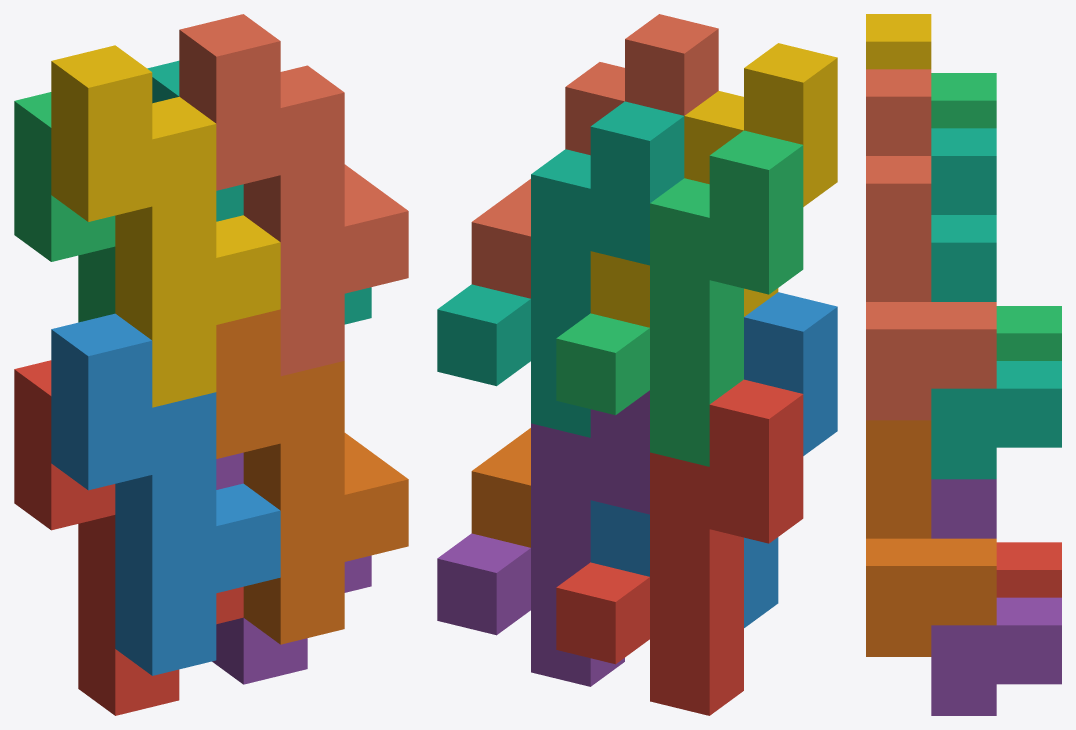
The model's file is tiling.obj.
The picture shows the model from 3 angles, left to right: view 1: azimuth 30°, elevation 25°; view 2: azimuth 150°, elevation 25°; view 3: azimuth 270°, elevation 25°; orthographic projection. The views are drawn at different scales.
Visible parts, largest first — view 1: copy_1_domain_2, copy_1_domain_4, copy_1_domain_8, copy_1_domain_6, copy_1_domain_1, copy_1_domain_3, copy_1_domain_5, copy_1_domain_7; view 2: copy_1_domain_1, copy_1_domain_3, copy_1_domain_7, copy_1_domain_5, copy_1_domain_4, copy_1_domain_8, copy_1_domain_2, copy_1_domain_6; view 3: copy_1_domain_8, copy_1_domain_7, copy_1_domain_6, copy_1_domain_5, copy_1_domain_3, copy_1_domain_1, copy_1_domain_4.
Boxes of the visible parts, x1,y1,x2,y2 form: copy_1_domain_2: (51,313,280,675); copy_1_domain_4: (51,45,280,407); copy_1_domain_8: (179,14,408,376); copy_1_domain_6: (216,309,408,644); copy_1_domain_1: (14,360,243,715); copy_1_domain_3: (14,92,115,322); copy_1_domain_5: (212,452,371,684); copy_1_domain_7: (147,60,371,324); copy_1_domain_1: (556,379,803,715); copy_1_domain_3: (556,130,803,466); copy_1_domain_7: (437,101,684,437); copy_1_domain_5: (437,390,649,686); copy_1_domain_4: (590,43,837,327); copy_1_domain_8: (471,14,718,298); copy_1_domain_2: (590,292,837,627); copy_1_domain_6: (471,428,530,547); copy_1_domain_8: (866,69,996,420); copy_1_domain_7: (931,128,1061,479); copy_1_domain_6: (866,420,996,656); copy_1_domain_5: (931,479,1061,715); copy_1_domain_3: (931,73,1061,360); copy_1_domain_1: (996,542,1061,597); copy_1_domain_4: (866,14,931,69).
Size of the model in its own units: 5 by 10 by 3.
